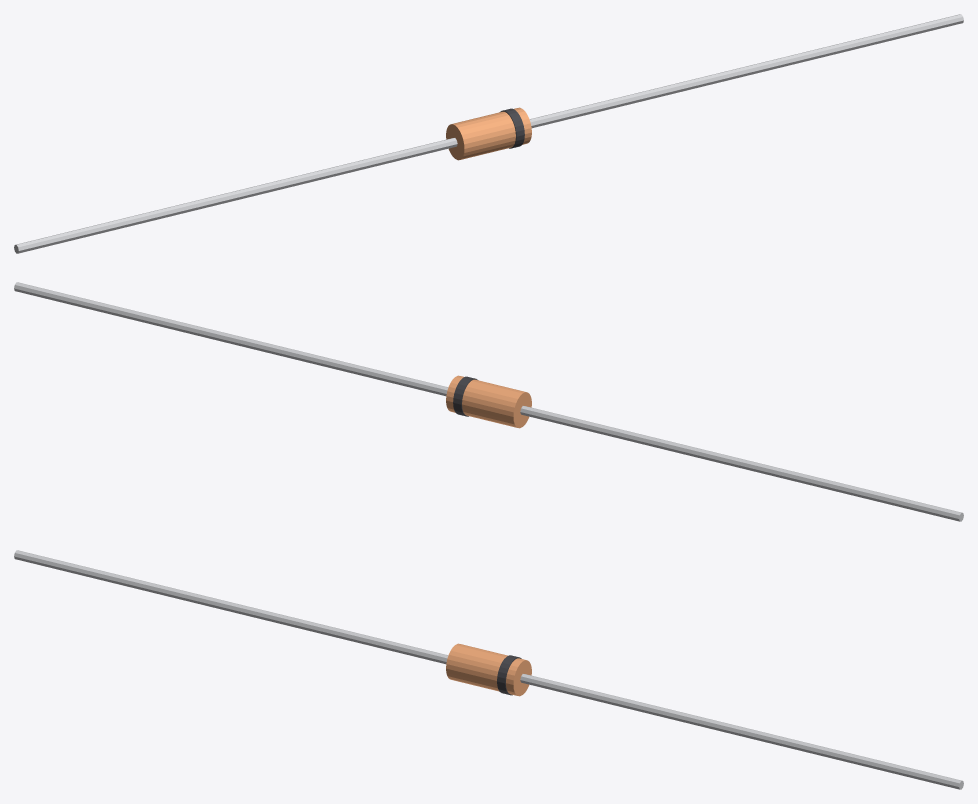
Rendered from axial-diode.glb.
The picture shows the model from 3 angles, top to bottom: view 1: azimuth 30°, elevation 25°; view 2: azimuth 150°, elevation 25°; view 3: azimuth 330°, elevation 25°; orthographic projection.
Visible parts, largest first — view 1: axial-diode, axial-diode_body; view 2: axial-diode, axial-diode_body; view 3: axial-diode, axial-diode_body.
Part boxes in pixels (x1,y1,x2,y2): axial-diode: (14,14,963,253); axial-diode_body: (446,107,531,160); axial-diode: (14,282,963,521); axial-diode_body: (446,375,531,428); axial-diode: (14,550,963,789); axial-diode_body: (446,643,531,696).
Size of the model in its own units: 0.056 by 0.002 by 0.002.
